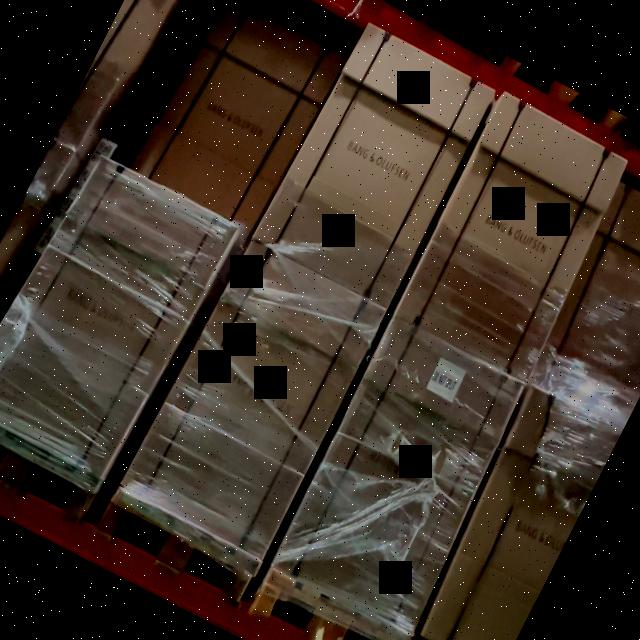box: (125, 242, 388, 559), (272, 318, 528, 630), (0, 159, 232, 472), (258, 27, 494, 305), (392, 98, 627, 376), (140, 0, 341, 226)
